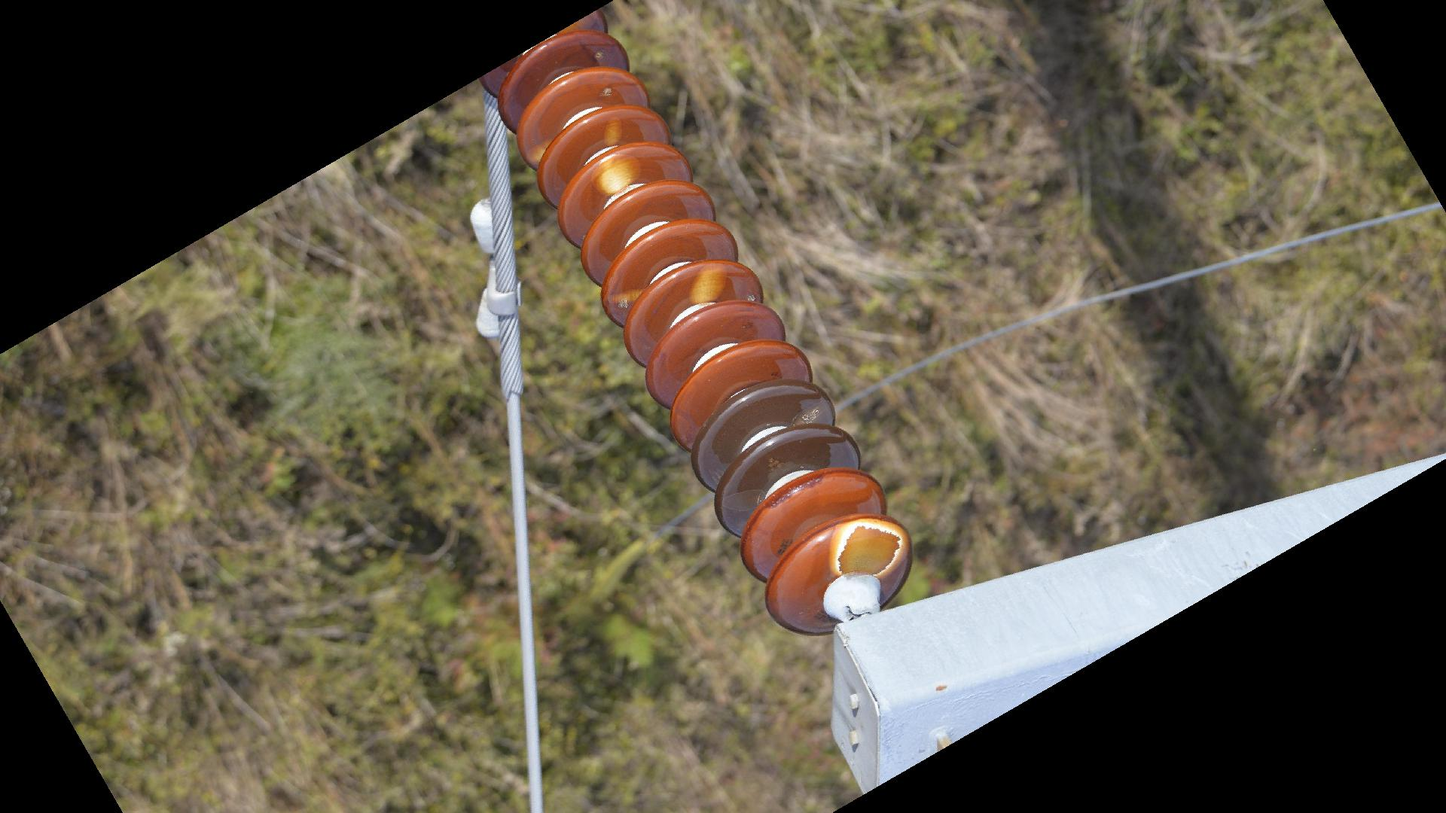insulator: (475, 1, 915, 639)
insulator_flashover: (835, 521, 903, 577), (589, 151, 643, 197), (686, 260, 728, 306), (600, 285, 644, 308), (599, 112, 624, 148)
